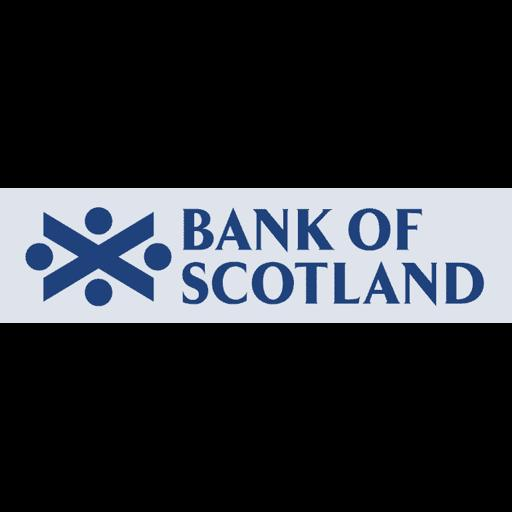Bank of Scotland: (0, 188, 512, 323)
